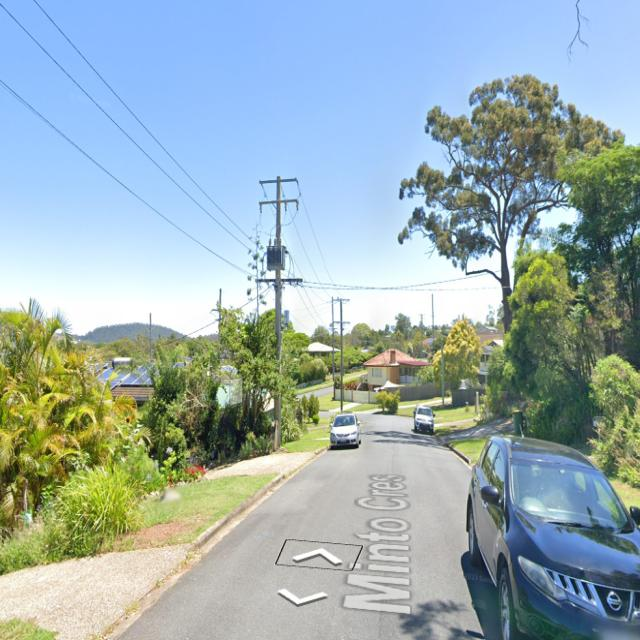HV-transmission: (258, 178, 302, 214), (333, 296, 350, 304)
crossarm: (259, 198, 299, 206), (255, 278, 303, 284), (259, 178, 297, 184), (333, 299, 350, 302), (333, 321, 350, 324), (211, 309, 221, 312), (215, 319, 222, 321)
timber-pole: (274, 176, 282, 448), (340, 298, 343, 414), (332, 296, 335, 401), (218, 289, 222, 363), (441, 341, 444, 408), (149, 312, 152, 362), (432, 294, 434, 348), (421, 314, 423, 356)
transformer: (264, 235, 286, 270)
